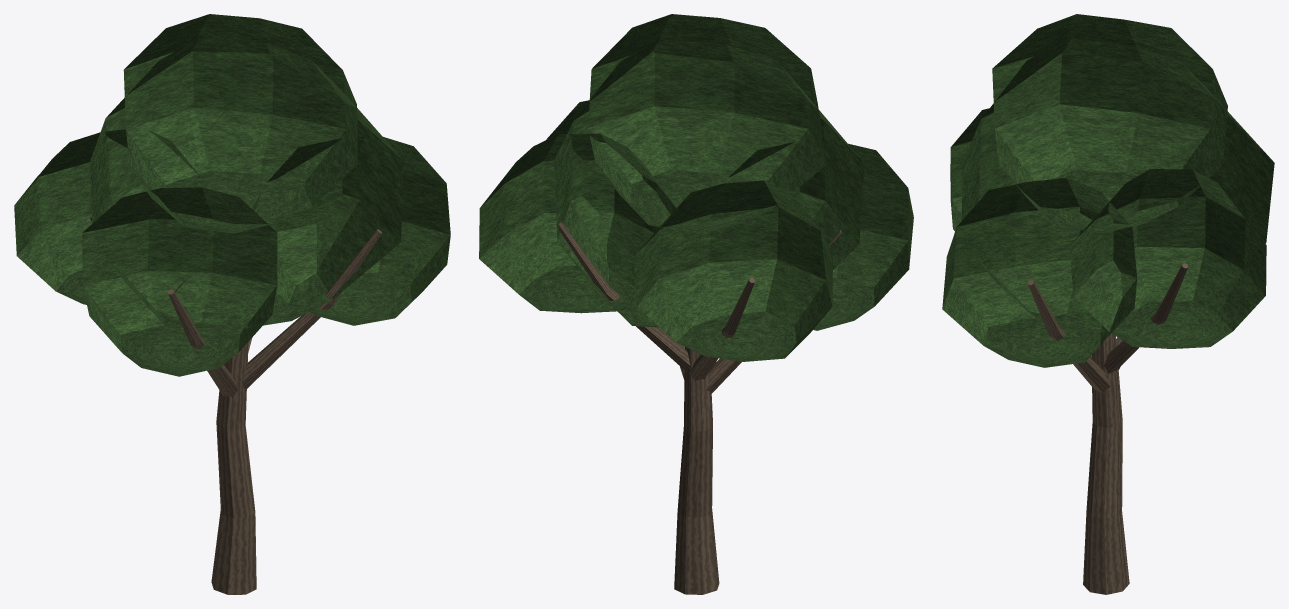
The model's file is tree_shisham.glb.
The picture shows the model from 3 angles, left to right: view 1: azimuth 30°, elevation 25°; view 2: azimuth 150°, elevation 25°; view 3: azimuth 270°, elevation 25°; orthographic projection.
Visible parts, largest first — view 1: tree_shisham; view 2: tree_shisham; view 3: tree_shisham.
Boxes of the visible parts, box(x1,y1,x2,y2) form: tree_shisham: box(14, 14, 450, 594); tree_shisham: box(479, 14, 913, 594); tree_shisham: box(942, 14, 1274, 594).
Bounding box in the file's own units: 5.92 × 9 × 4.84.
1 material, 1 textured.
